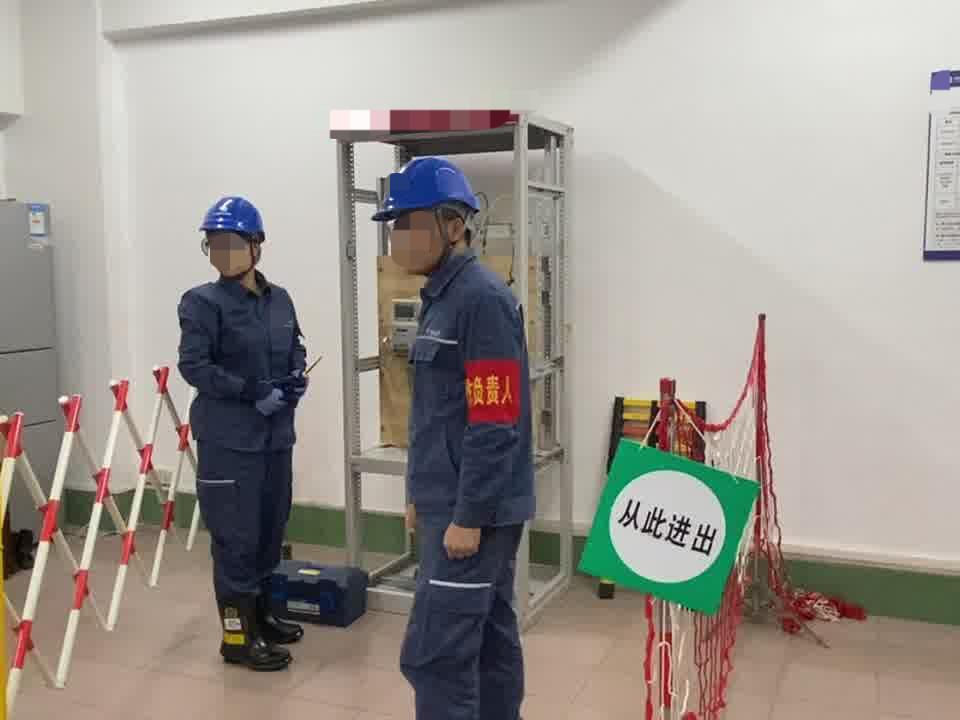halt: (376, 157, 486, 272), (200, 198, 271, 282)
inear: (434, 207, 472, 252)
